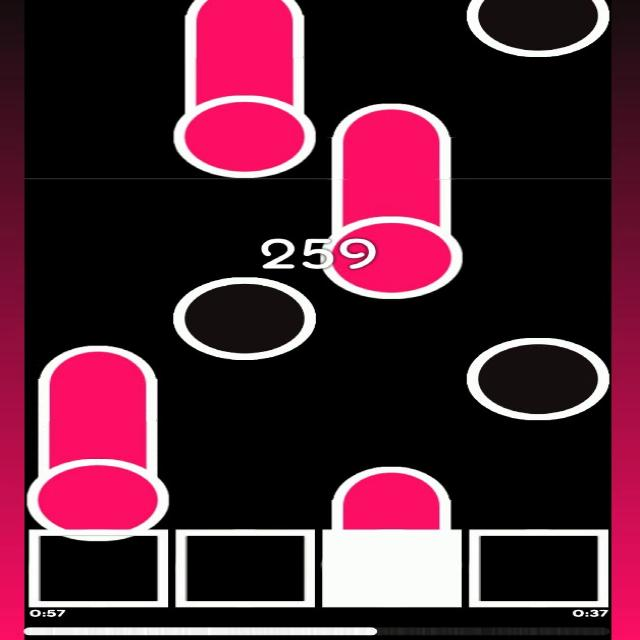end_hold: (36, 332, 163, 387), (329, 454, 456, 506), (331, 94, 456, 146), (178, 0, 311, 33)
note: (464, 330, 609, 421), (174, 272, 318, 362), (461, 0, 611, 59)
start_hold: (318, 203, 466, 299), (28, 444, 171, 542), (174, 83, 318, 179)
